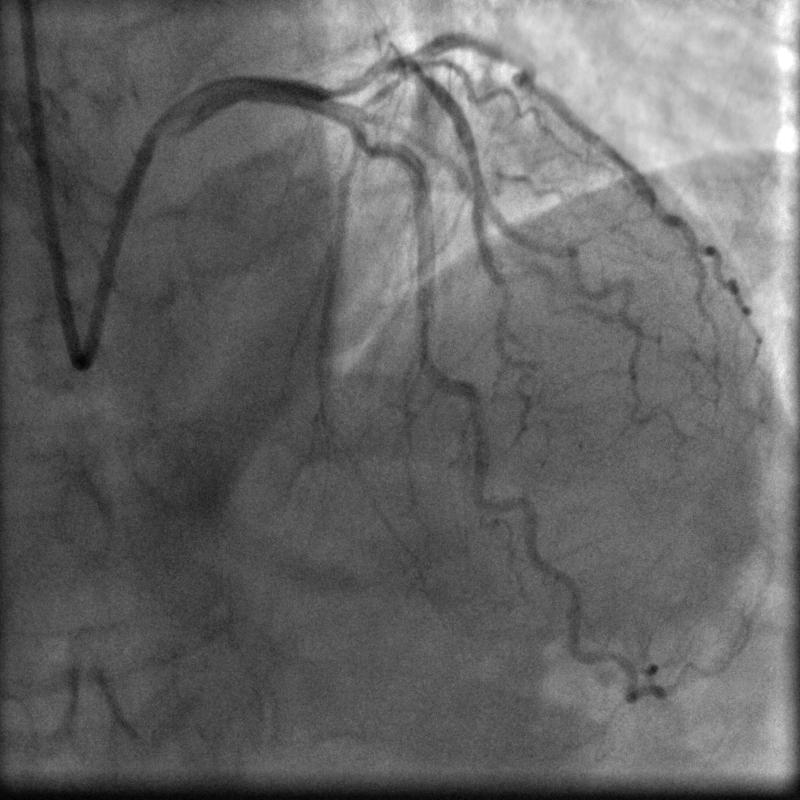Stenosis: (319, 68, 385, 97)
